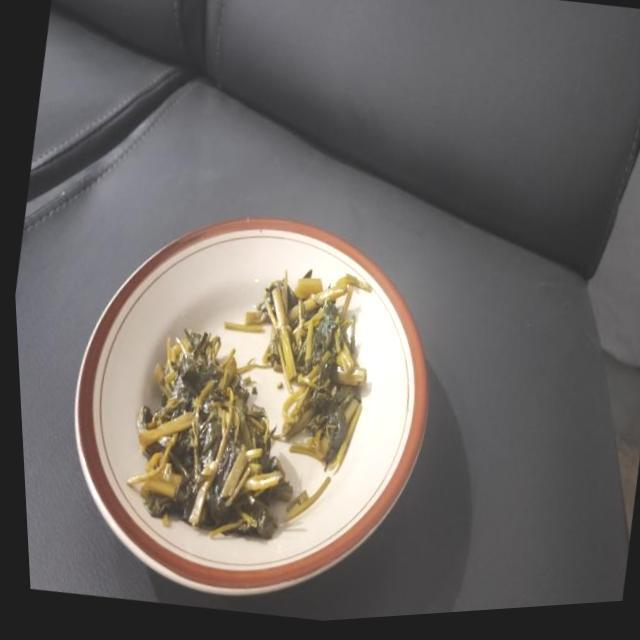tumis_kangkung: (126, 329, 292, 538), (224, 270, 371, 470)
